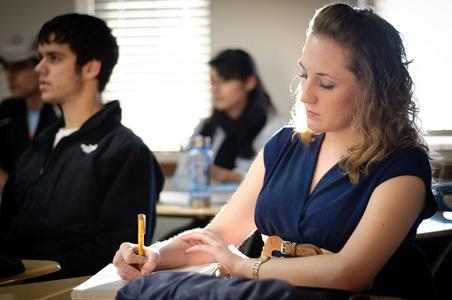person: (111, 5, 436, 300)
